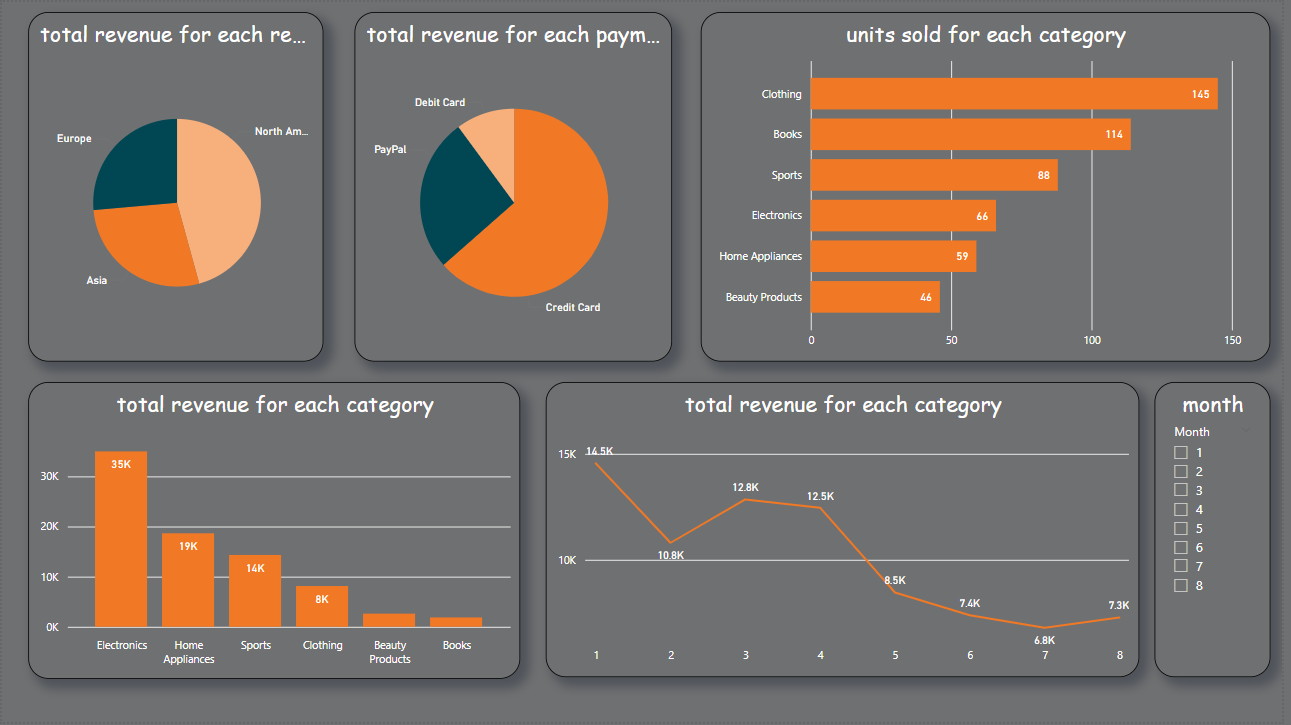

What the dashboard file says about the page in this screenshot:
{"tool":"powerbi","page":{"name":"Page 2","canvas":[1280,720],"ordinal":1},"visuals":[{"type":"clusteredBarChart","title":"units sold for each category","fields":{"Category":["Table1.Product Category"],"Y":["Sum(Table1.Units Sold)"]},"box":[698.5,9.7,569.4,349.9],"z":0},{"type":"clusteredColumnChart","title":"total revenue for each category","fields":{"Y":["Sum(Table1.Total Revenue)"],"Category":["Table1.Product Category"]},"box":[26.5,380,492.2,296.8],"z":1},{"type":"lineChart","title":"total revenue for each category","fields":{"Y":["Sum(Table1.Total Revenue)"],"Category":["Table1.Month"]},"box":[544.1,380,593.6,295.6],"z":2},{"type":"pieChart","title":"total revenue for each region","fields":{"Category":["Table1.Region"],"Y":["Sum(Table1.Total Revenue)"]},"box":[26.5,9.7,295.6,349.9],"z":3},{"type":"pieChart","title":"total revenue for each payment method","fields":{"Y":["Sum(Table1.Total Revenue)"],"Category":["Table1.Payment Method"]},"box":[352.3,9.7,317.3,349.9],"z":4},{"type":"slicer","title":"month","fields":{"Values":["Table1.Month"]},"box":[1152.2,380,115.8,295.6],"z":5}]}

Visuals, with their boxes in screenshot pixels (x1, y1, x2, y2), scaled from the page's 1280x720 canvas onto the 1291x725 screenshot:
"units sold for each category" clusteredBarChart: <region>705, 10, 1279, 362</region>
"total revenue for each category" clusteredColumnChart: <region>27, 383, 523, 681</region>
"total revenue for each category" lineChart: <region>549, 383, 1147, 680</region>
"total revenue for each region" pieChart: <region>27, 10, 325, 362</region>
"total revenue for each payment method" pieChart: <region>355, 10, 675, 362</region>
"month" slicer: <region>1162, 383, 1279, 680</region>
